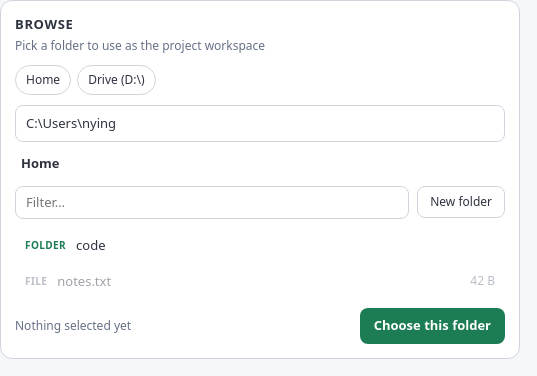
Test: PathBrowser › returns to an ancestor from the breadcrumb
The width and height of the screenshot is (537, 376).
Check: the 1st button "Home" is shown, box 15,64 -> 71,94
Click the button with aria-label "Open folder code".
click(46, 245)  # box 15,229 -> 505,262
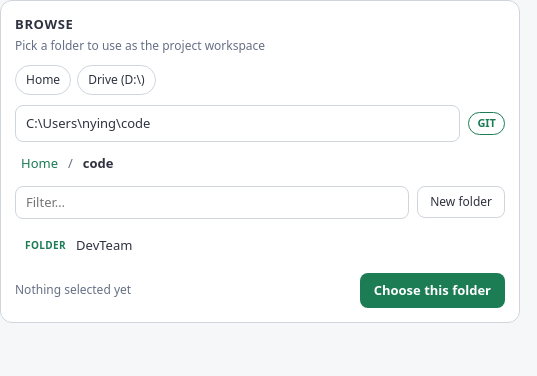
Click the button with aria-label "Go to Home".
click(40, 164)  # box 15,152 -> 64,176
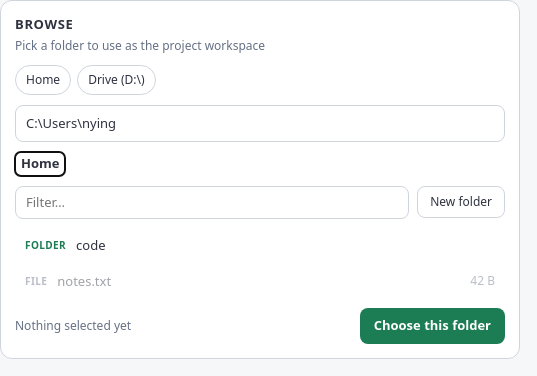
Check: the button with aria-label "Open folder code" is shown, box 15,229 -> 505,262
